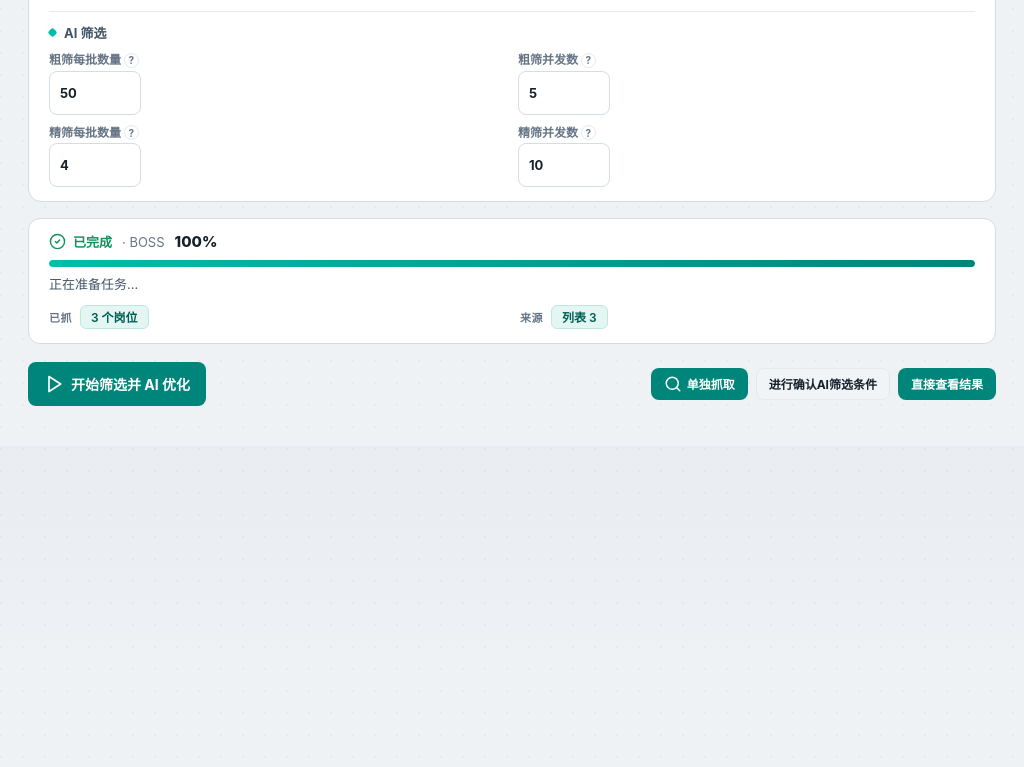
Test case: DiscoveryView B038 跳过 AI 直接查看 › 043 页面秩序：待筛选标签在左、去筛选按钮在右
The width and height of the screenshot is (1024, 767).
(page scrolled)
What coordinates should you click on to do the following:
click the button with test id "view-scraped-only"
I would click on:
 (947, 384)
Its box is [898,368,996,400].
(page scrolled)
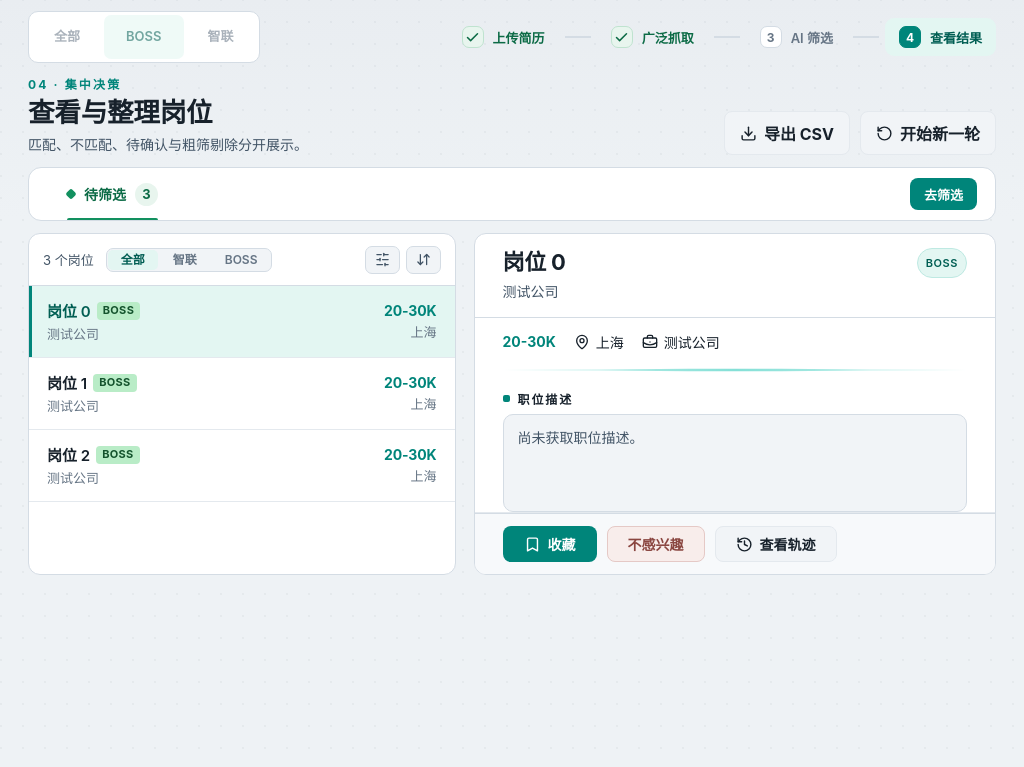
Check: the button with test id "scraped-only-confirm-filters" reads "去筛选", box [910,178,977,210]
